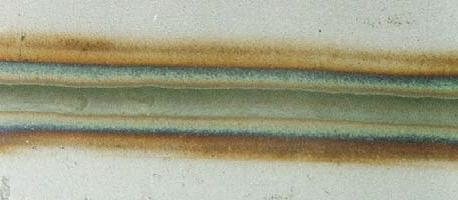soldas: (0, 31, 458, 164)
